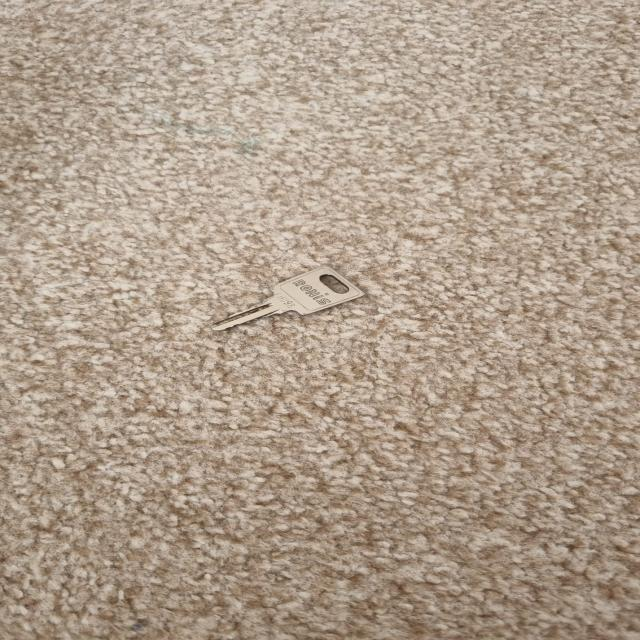Key: (212, 268, 364, 330)
